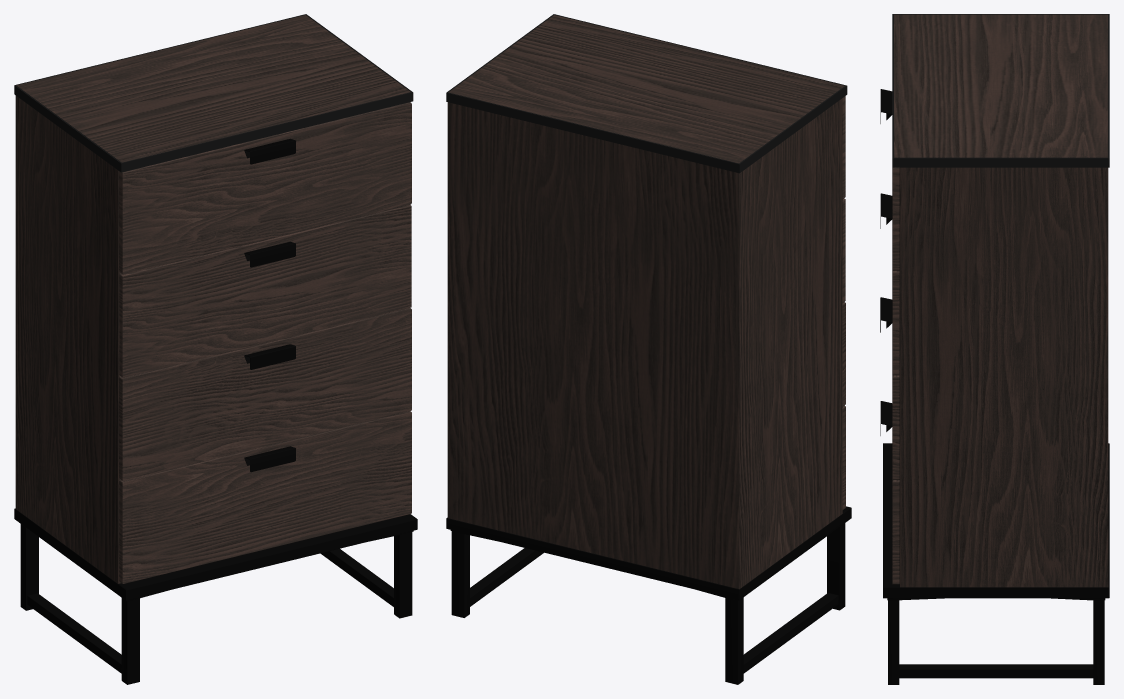
File: mini_drawer1.glb
The picture shows the model from 3 angles, left to right: view 1: azimuth 30°, elevation 25°; view 2: azimuth 150°, elevation 25°; view 3: azimuth 270°, elevation 25°; orthographic projection.
Parts seen in each view (by area): view 1: Body, Top, Cube.005, Cube.004, Cube.006, Cube.003, Bottom, Handle2, Handle, Handle1, Handle3; view 2: Body, Top, Bottom; view 3: Body, Top, Bottom, Cube.005, Cube.004, Cube.006, Cube.003.
Part boxes in pixels (x1,y1,x2,y2): Body: [15, 95, 120, 583]; Top: [14, 14, 413, 172]; Cube.005: [119, 308, 411, 480]; Cube.004: [119, 205, 411, 377]; Cube.006: [119, 411, 411, 583]; Cube.003: [119, 102, 411, 274]; Bottom: [14, 508, 417, 684]; Handle2: [244, 344, 295, 369]; Handle: [244, 138, 295, 164]; Handle1: [244, 241, 295, 267]; Handle3: [244, 446, 295, 472]; Body: [447, 98, 842, 589]; Top: [446, 14, 847, 173]; Bottom: [446, 506, 851, 684]; Body: [900, 167, 1108, 587]; Top: [892, 14, 1109, 167]; Bottom: [883, 443, 1109, 684]; Cube.005: [892, 270, 899, 479]; Cube.004: [892, 270, 899, 375]; Cube.006: [892, 480, 899, 584]; Cube.003: [892, 167, 899, 270].
Bounding box in the file's own units: 0.6567 × 1.12 × 0.44.
4 materials, 2 textured.
